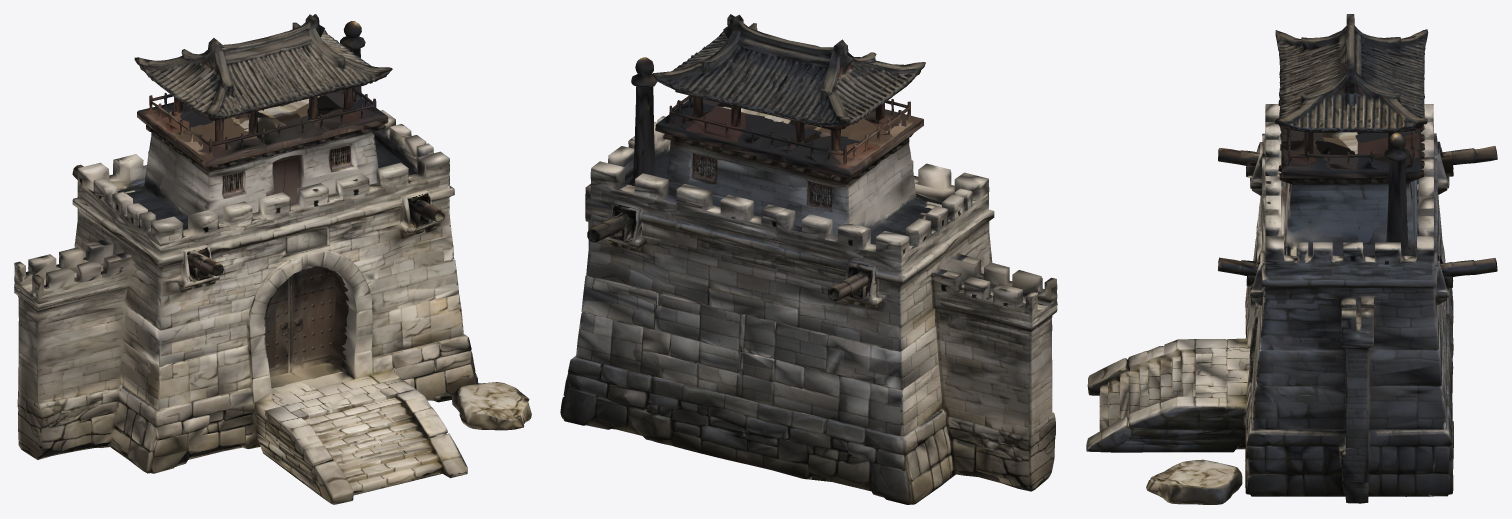
The model's file is castle.glb.
The picture shows the model from 3 angles, left to right: view 1: azimuth 30°, elevation 25°; view 2: azimuth 150°, elevation 25°; view 3: azimuth 270°, elevation 25°; orthographic projection. The views are drawn at different scales.
Parts seen in each view (by area): view 1: tmpf8uthixoobj; view 2: tmpf8uthixoobj; view 3: tmpf8uthixoobj.
Boxes of the visible parts, left/top/right/bottom form: tmpf8uthixoobj: left=14, top=14, right=531, bottom=504; tmpf8uthixoobj: left=560, top=14, right=1057, bottom=504; tmpf8uthixoobj: left=1086, top=14, right=1497, bottom=504.
Size of the model in its own units: 0.9994 by 0.841 by 0.8318.
1 material, 1 textured.
